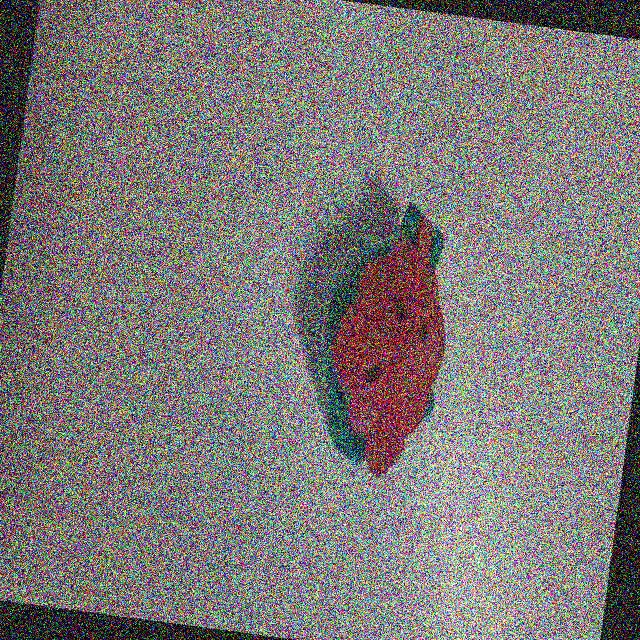House: (288, 184, 475, 532)
